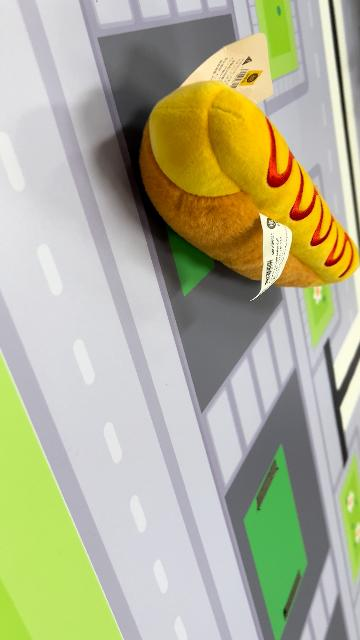hotdog: (138, 82, 358, 290)
